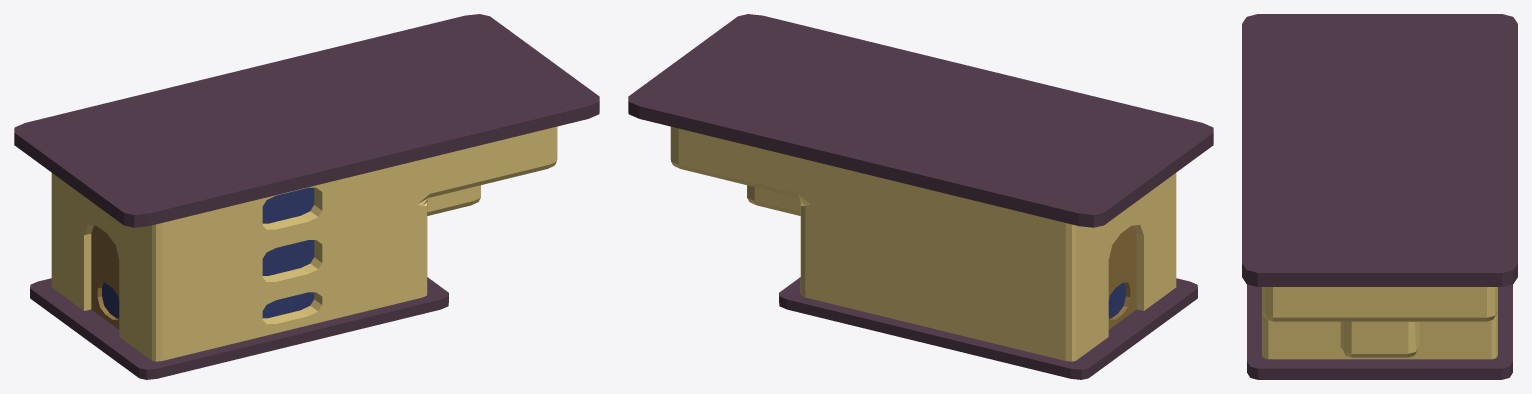
File: TRRBuilding.fbx
3 views of the same model, side by side, from view 1: azimuth 30°, elevation 25°; view 2: azimuth 150°, elevation 25°; view 3: azimuth 270°, elevation 25° (orthographic). The views are drawn at different scales.
Parts seen in each view (by area): view 1: TRRBuilding; view 2: TRRBuilding; view 3: TRRBuilding.
Boxes of the visible parts, left/top/right/bottom form: TRRBuilding: left=14, top=14, right=599, bottom=379; TRRBuilding: left=628, top=14, right=1213, bottom=379; TRRBuilding: left=1242, top=14, right=1517, bottom=379.
Bounding box in the file's own units: 7.78 × 2.65 × 3.5.
